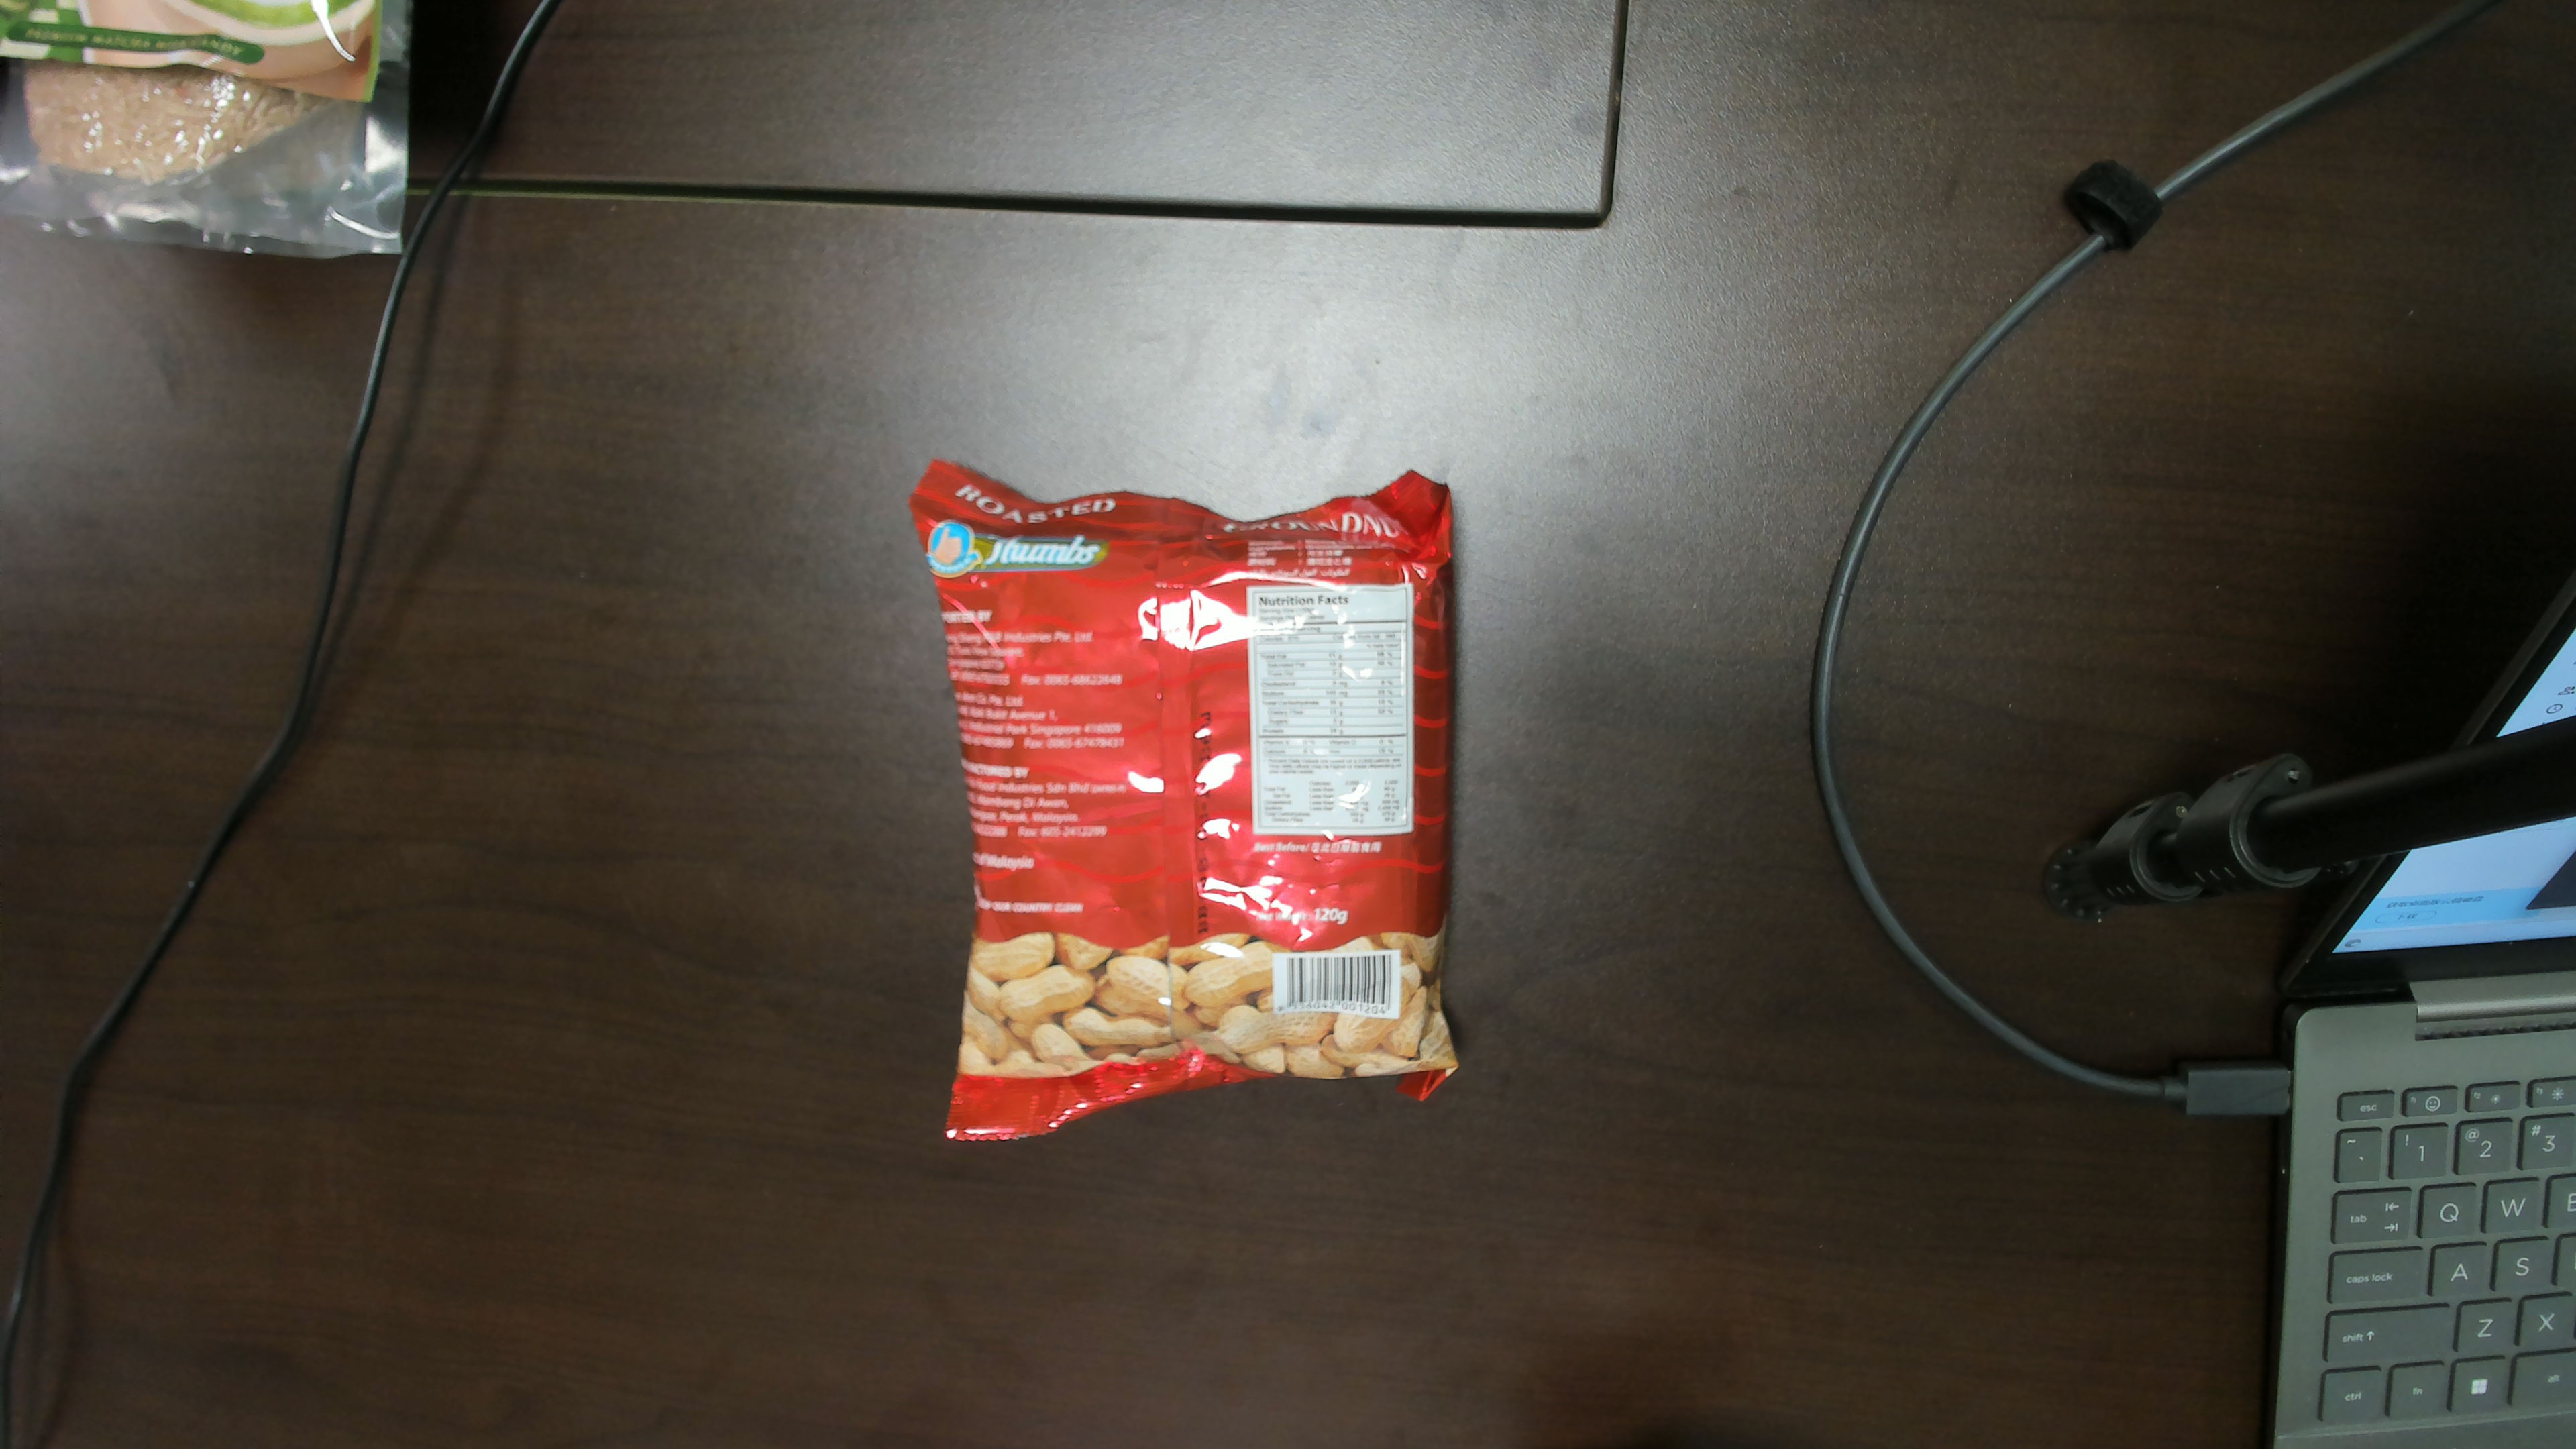Nuts_100-199g_Halal_NonHealthy: (973, 545, 1419, 1053)
